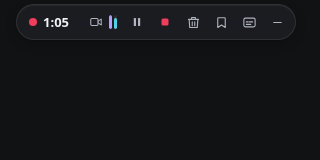
recording pill › Escape answers No to the discard question
Click the button named "Cancel recording". click: click(193, 22)
box: [179,8,207,36]
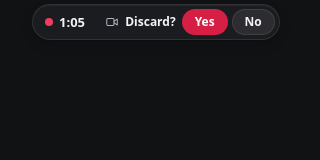
Press Escape
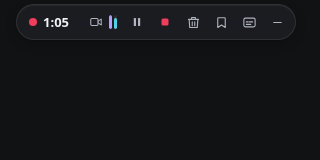
Expected: the text "Discard?" is gone
